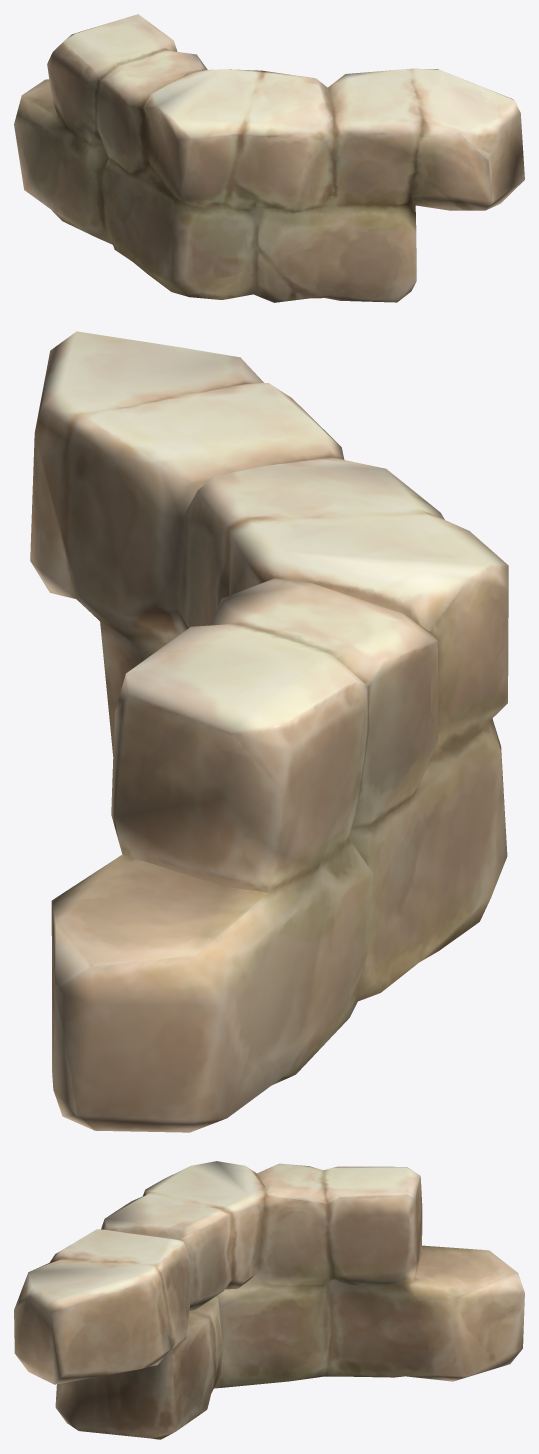
The model's file is mesh_StoneWall_Outer_2_Half.fbx.
3 renders of one model, top to bottom at view 1: azimuth 30°, elevation 25°; view 2: azimuth 150°, elevation 25°; view 3: azimuth 270°, elevation 25°, orthographic. The views are drawn at different scales.
Visible parts, largest first — view 1: StoneWall_Outer_2_Half_LOD0; view 2: StoneWall_Outer_2_Half_LOD0; view 3: StoneWall_Outer_2_Half_LOD0.
Part boxes in pixels (x1,y1,x2,y2): StoneWall_Outer_2_Half_LOD0: (14,14,524,302); StoneWall_Outer_2_Half_LOD0: (30,331,508,1132); StoneWall_Outer_2_Half_LOD0: (14,1161,524,1439).
Size of what is drawn, in the model's own units: 5.73 by 3.45 by 8.46.
Materials: 1 (1 with a texture image).
